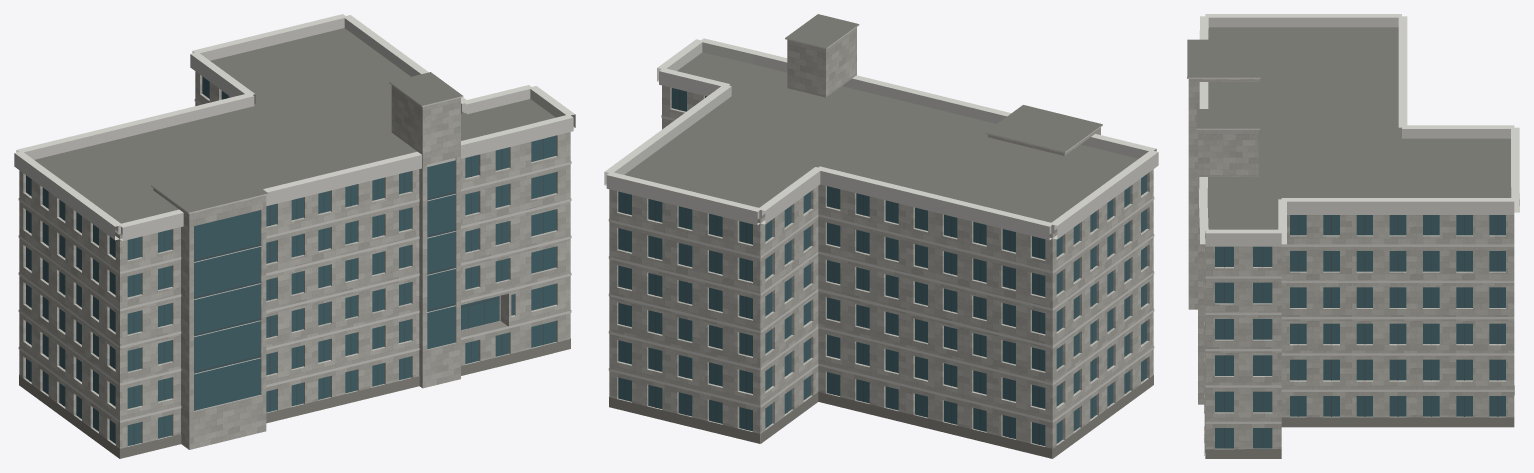
The picture shows the model from 3 angles, left to right: view 1: azimuth 30°, elevation 25°; view 2: azimuth 150°, elevation 25°; view 3: azimuth 270°, elevation 25°; orthographic projection. The views are drawn at different scales.
Visible parts, largest first — view 1: welfare__wall, welfare__glass, welfare__roof, welfare__trim, welfare__base, welfare__frame; view 2: welfare__wall, welfare__roof, welfare__glass, welfare__trim, welfare__base, welfare__frame; view 3: welfare__wall, welfare__roof, welfare__glass, welfare__trim, welfare__base, welfare__frame.
Boxes of the visible parts, left/top/right/bottom form: welfare__wall: left=19, top=71, right=570, bottom=458; welfare__glass: left=26, top=76, right=556, bottom=445; welfare__roof: left=34, top=28, right=555, bottom=235; welfare__trim: left=14, top=14, right=575, bottom=422; welfare__base: left=19, top=321, right=570, bottom=458; welfare__frame: left=29, top=80, right=543, bottom=444; welfare__wall: left=609, top=27, right=1153, bottom=458; welfare__roof: left=624, top=14, right=1138, bottom=234; welfare__glass: left=618, top=88, right=1146, bottom=445; welfare__trim: left=604, top=24, right=1158, bottom=422; welfare__base: left=609, top=375, right=1153, bottom=458; welfare__frame: left=625, top=89, right=1143, bottom=444; welfare__wall: left=1188, top=79, right=1514, bottom=452; welfare__roof: left=1187, top=27, right=1511, bottom=234; welfare__glass: left=1215, top=215, right=1505, bottom=448; welfare__trim: left=1187, top=14, right=1519, bottom=423; welfare__base: left=1204, top=385, right=1514, bottom=458; welfare__frame: left=1224, top=215, right=1498, bottom=448.
Size of the model in its own units: 47.95 by 28.22 by 30.72.
Materials: 7 (1 with a texture image).
